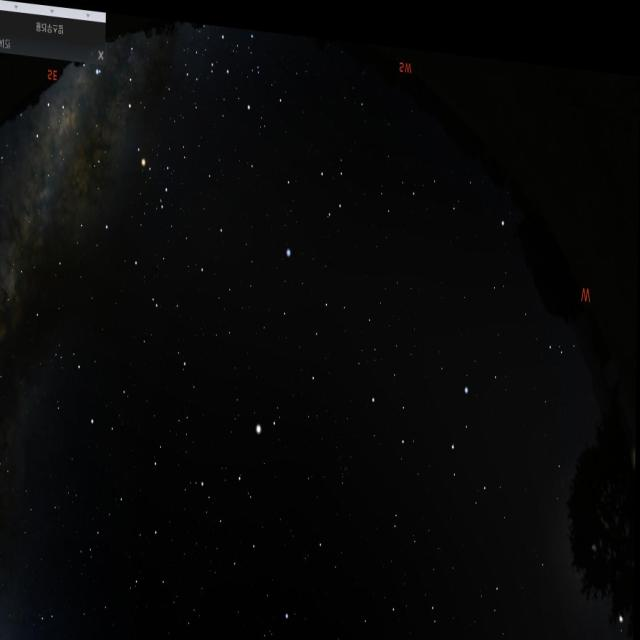bootes: (205, 400, 276, 592)
leo: (364, 348, 496, 501)
lyra: (39, 598, 84, 640)
scorpius: (90, 39, 185, 225)
